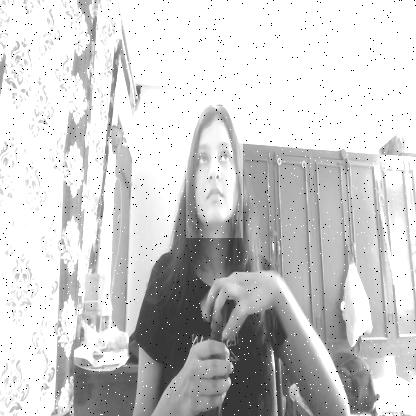Normal: (186, 106, 243, 238)
